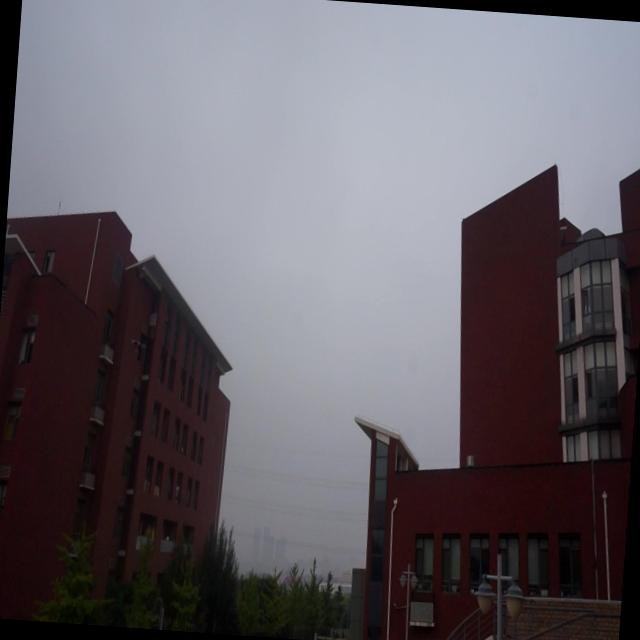drone: (126, 333, 144, 354)
